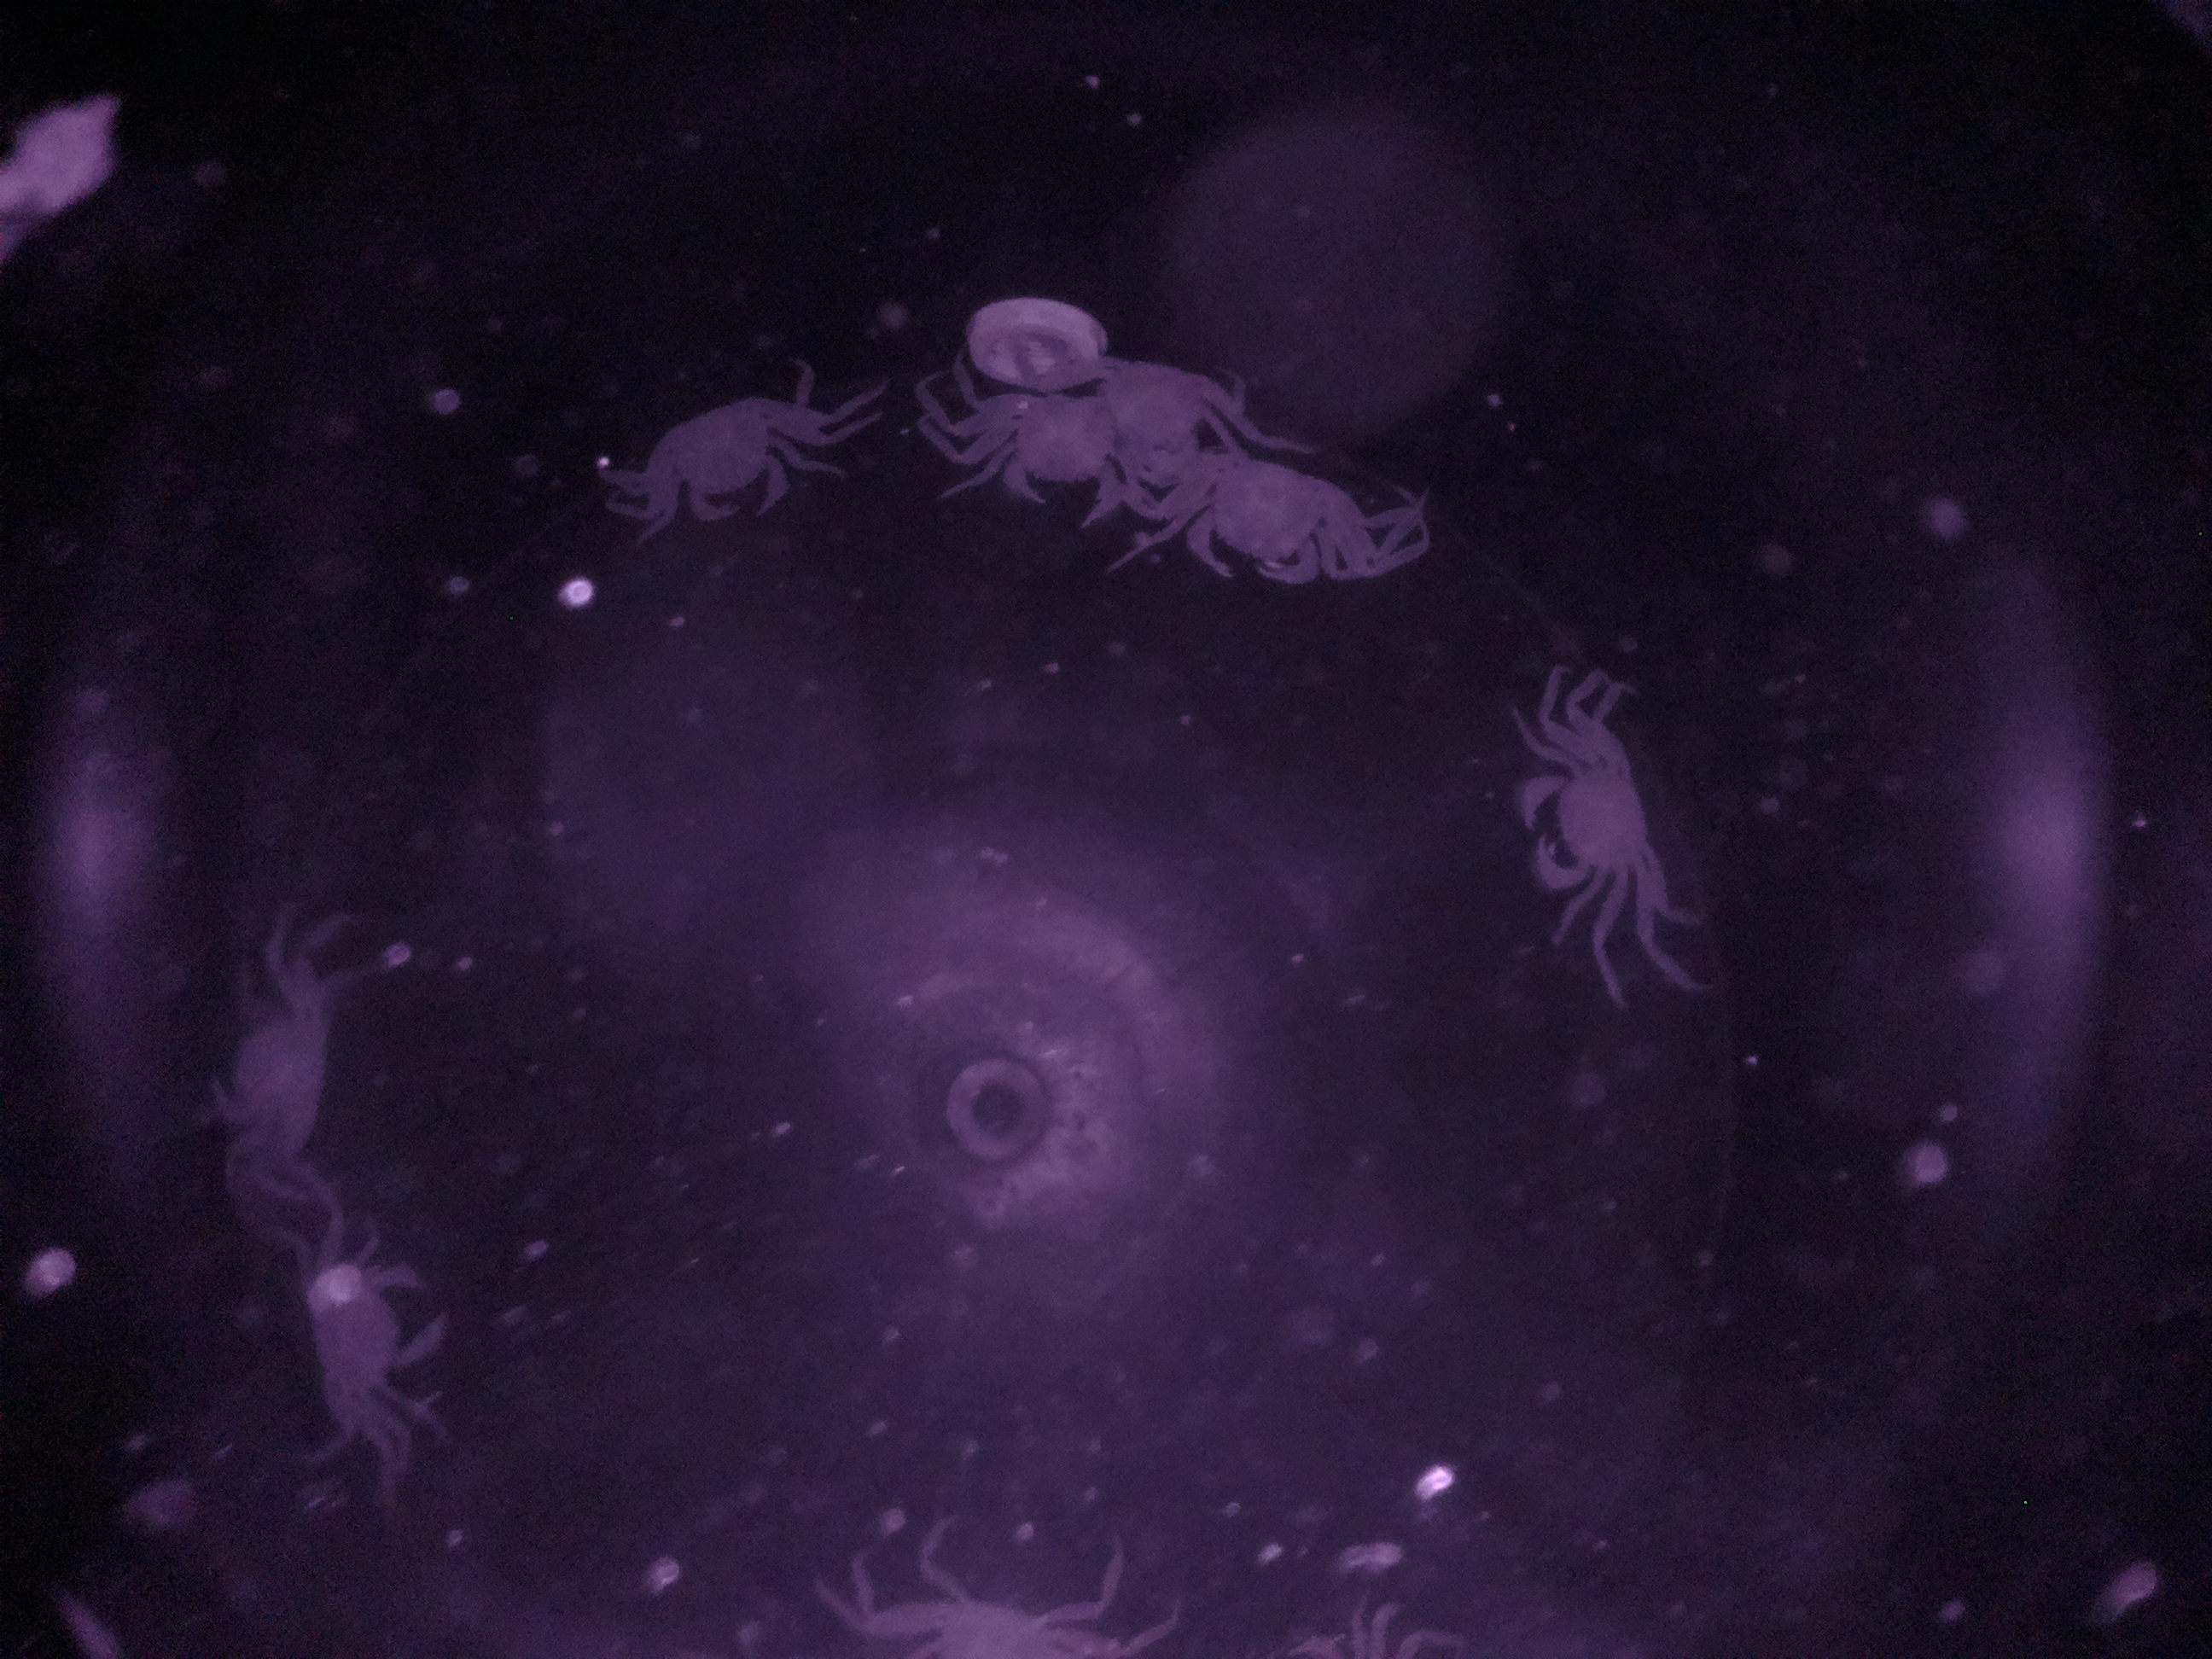Crab: (1505, 706, 1686, 945), (622, 380, 827, 551), (1170, 439, 1362, 599)
